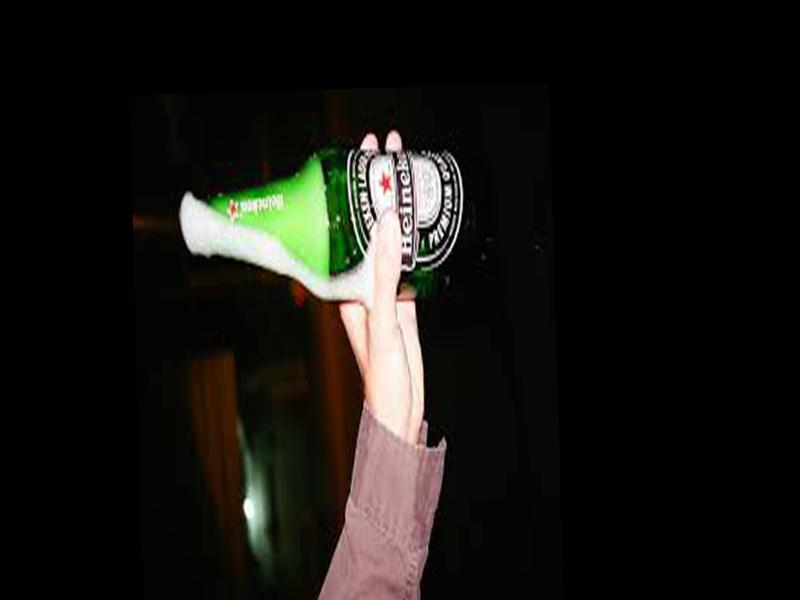Beer: (191, 140, 473, 307)
